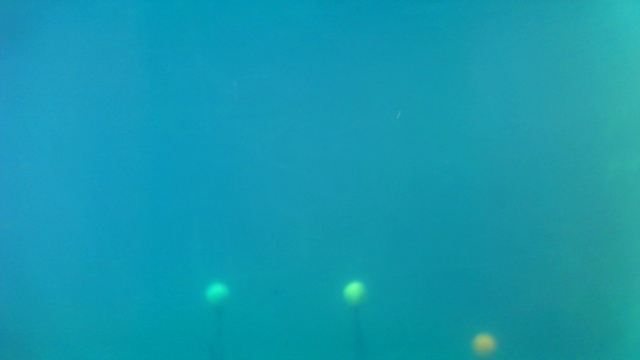buoy_red: (471, 334, 493, 353)
